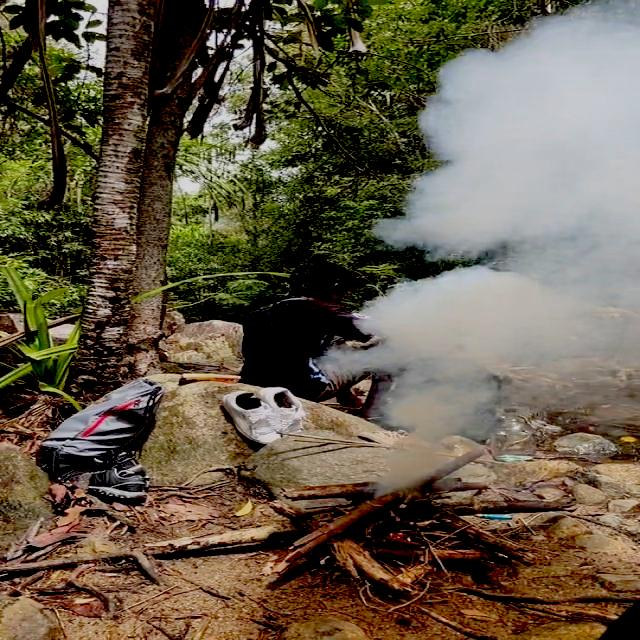smoke: (440, 52, 634, 158), (428, 163, 638, 256), (478, 254, 640, 364), (398, 350, 513, 446), (377, 292, 555, 350), (516, 30, 638, 88), (558, 5, 640, 52), (306, 348, 402, 374), (443, 268, 535, 293), (386, 445, 432, 479)
